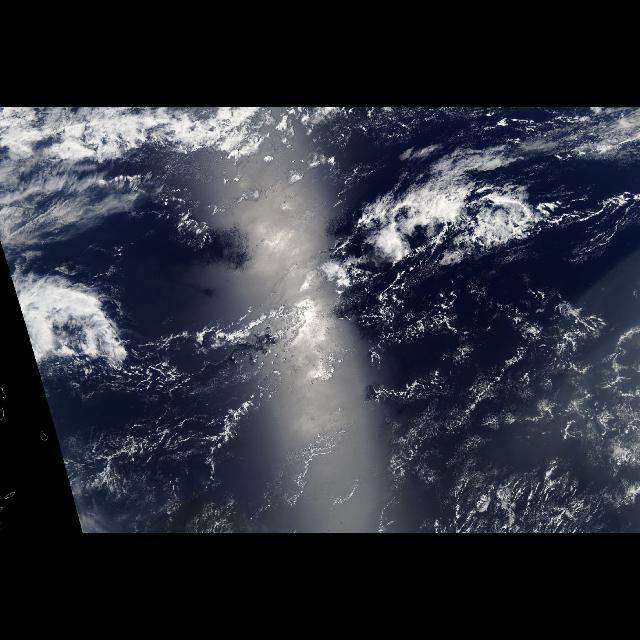Fish: (347, 153, 627, 273)
Gravel: (127, 280, 639, 490)
